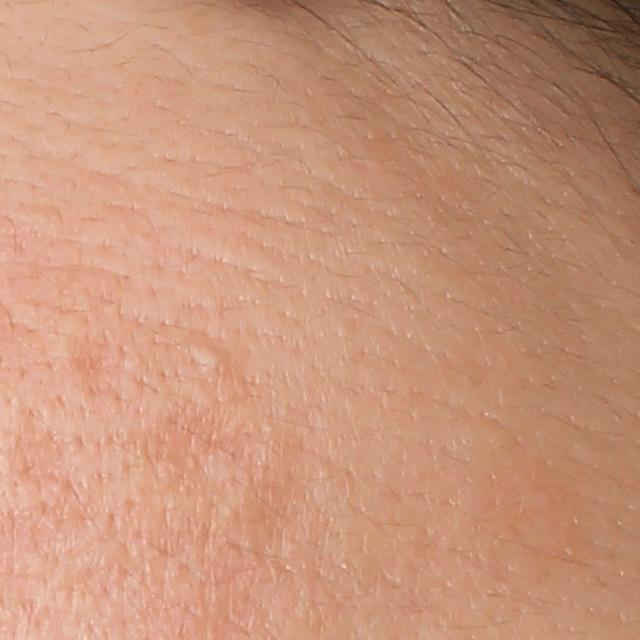atrophic_scar: (137, 405, 234, 477), (1, 426, 78, 483), (68, 326, 125, 398)
comedo: (189, 336, 232, 373)
